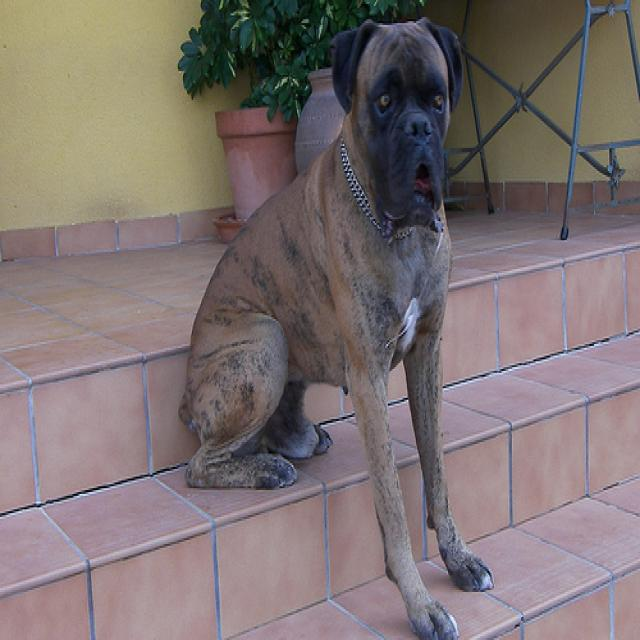dog-boxer: (175, 15, 499, 636)
